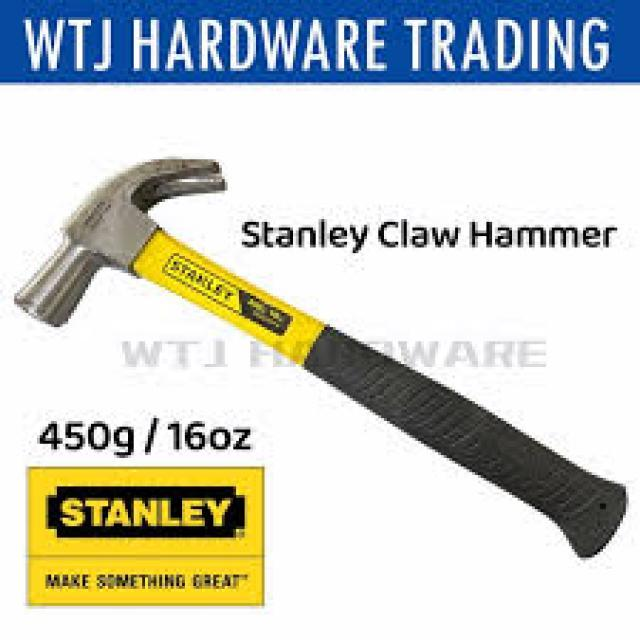hammer: (14, 125, 640, 560)
